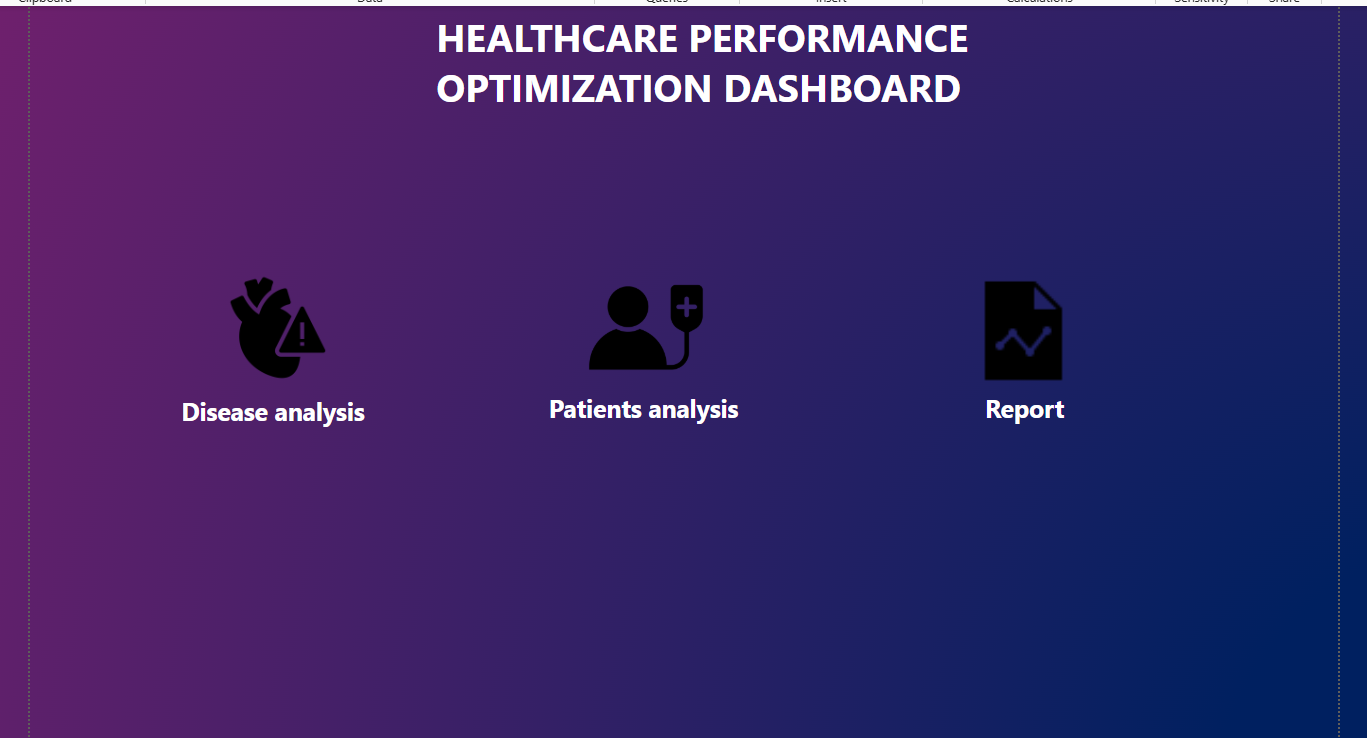

The page's visual inventory and layout, read from the dashboard file:
{"tool":"powerbi","page":{"name":"Home","canvas":[1280,720],"ordinal":0},"visuals":[{"type":"textbox","box":[392.5,0,553.9,116.2],"z":0},{"type":"image","box":[524.4,232.3,156.5,163.8],"z":1000},{"type":"image","box":[914.4,260.4,114.9,114.9],"z":2000},{"type":"image","box":[178.5,248.1,128.4,133.2],"z":3000},{"type":"textbox","box":[143,375.3,200.5,61.1],"z":4000},{"type":"textbox","box":[502.4,372.8,206.6,46.5],"z":5000},{"type":"textbox","box":[929,372.8,100.2,50.1],"z":6000}]}

Visuals, with their boxes on the page's 1280x720 design canvas (x1, y1, x2, y2). These are canvas units, not pixel positions in the 1367x738 screenshot, which may show the page scaled, cropped or inside an application window:
textbox: pyautogui.locateOnScreen(392, 0, 946, 116)
image: pyautogui.locateOnScreen(524, 232, 681, 396)
image: pyautogui.locateOnScreen(914, 260, 1029, 375)
image: pyautogui.locateOnScreen(178, 248, 307, 381)
textbox: pyautogui.locateOnScreen(143, 375, 344, 436)
textbox: pyautogui.locateOnScreen(502, 373, 709, 419)
textbox: pyautogui.locateOnScreen(929, 373, 1029, 423)
